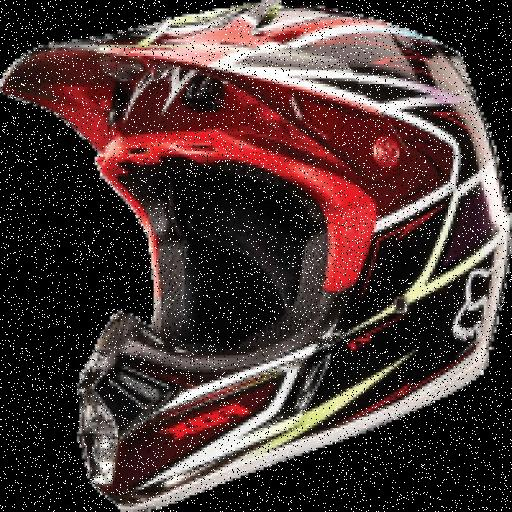Helmet: (2, 0, 509, 509)
